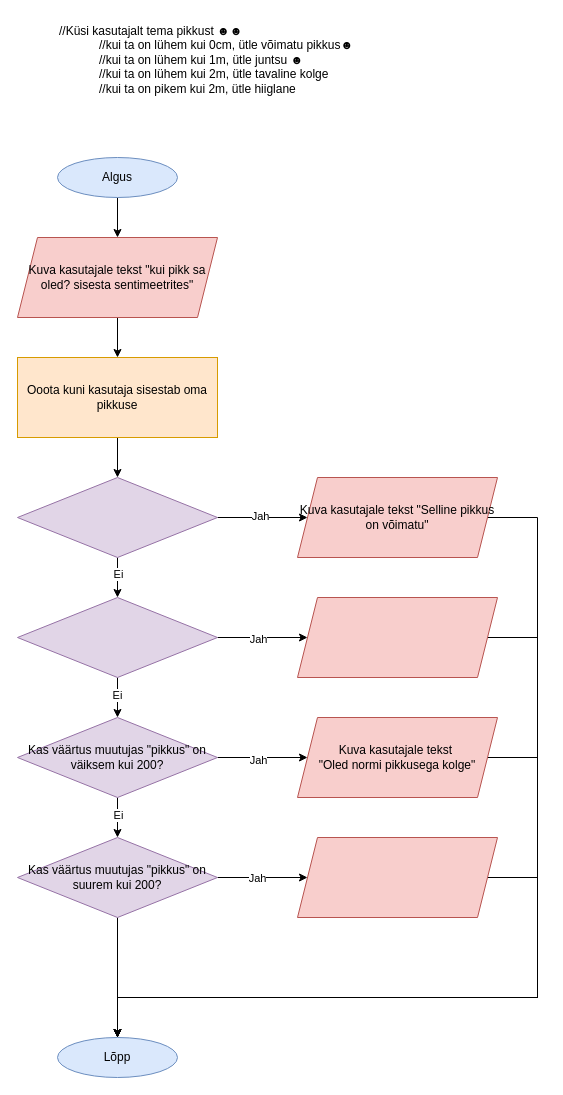
Image size: 563x1095. Some labels were removed from this diagram. Here are the shapes that lost their labels. From the top down, the box of each, then its label:
(16, 476, 218, 558): Kas väärtus muutujas "pikkus" on väiksem kui 0?
(16, 596, 218, 678): Kas väärtus muutujas "pikkus" on väiksem kui 100?
(296, 596, 498, 678): Kuva kasutajale tekst "Oled juntsu, hit the gym"
(296, 836, 498, 918): Kuva kasutajale tekst "Ossaraks, vaat kus hiiglane! true highmaxxer ♥♥"
